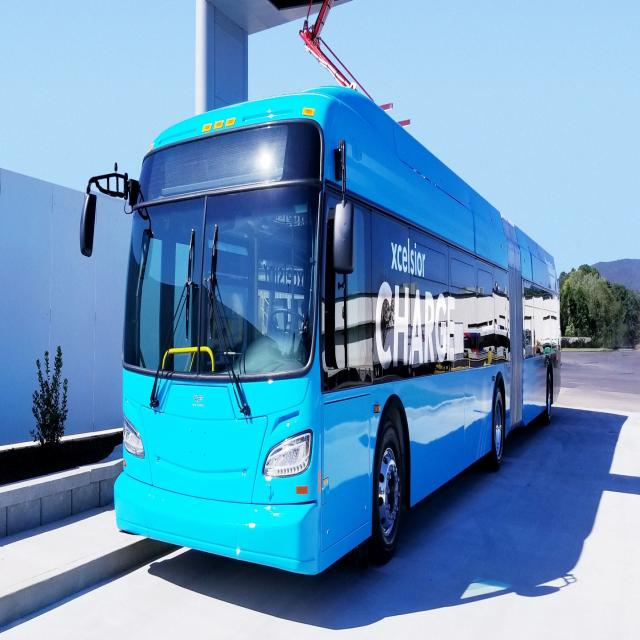bus: (73, 84, 570, 585)
